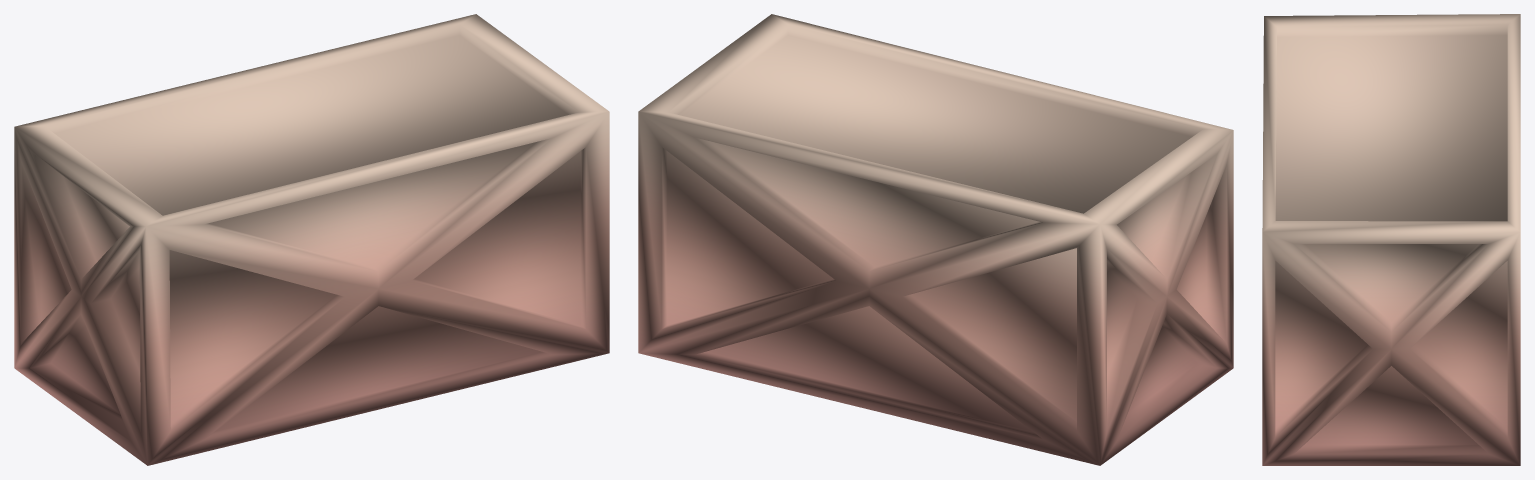
The model's file is kiste1x2.glb.
The picture shows the model from 3 angles, left to right: view 1: azimuth 30°, elevation 25°; view 2: azimuth 150°, elevation 25°; view 3: azimuth 270°, elevation 25°; orthographic projection. The views are drawn at different scales.
Parts seen in each view (by area): view 1: Kiste1x2; view 2: Kiste1x2; view 3: Kiste1x2.
Part boxes in pixels (x1,y1,x2,y2): Kiste1x2: [14, 14, 609, 465]; Kiste1x2: [638, 14, 1233, 465]; Kiste1x2: [1262, 14, 1520, 465].
Size of the model in its own units: 1 by 0.5 by 0.5.
Materials: 1 (1 with a texture image).
